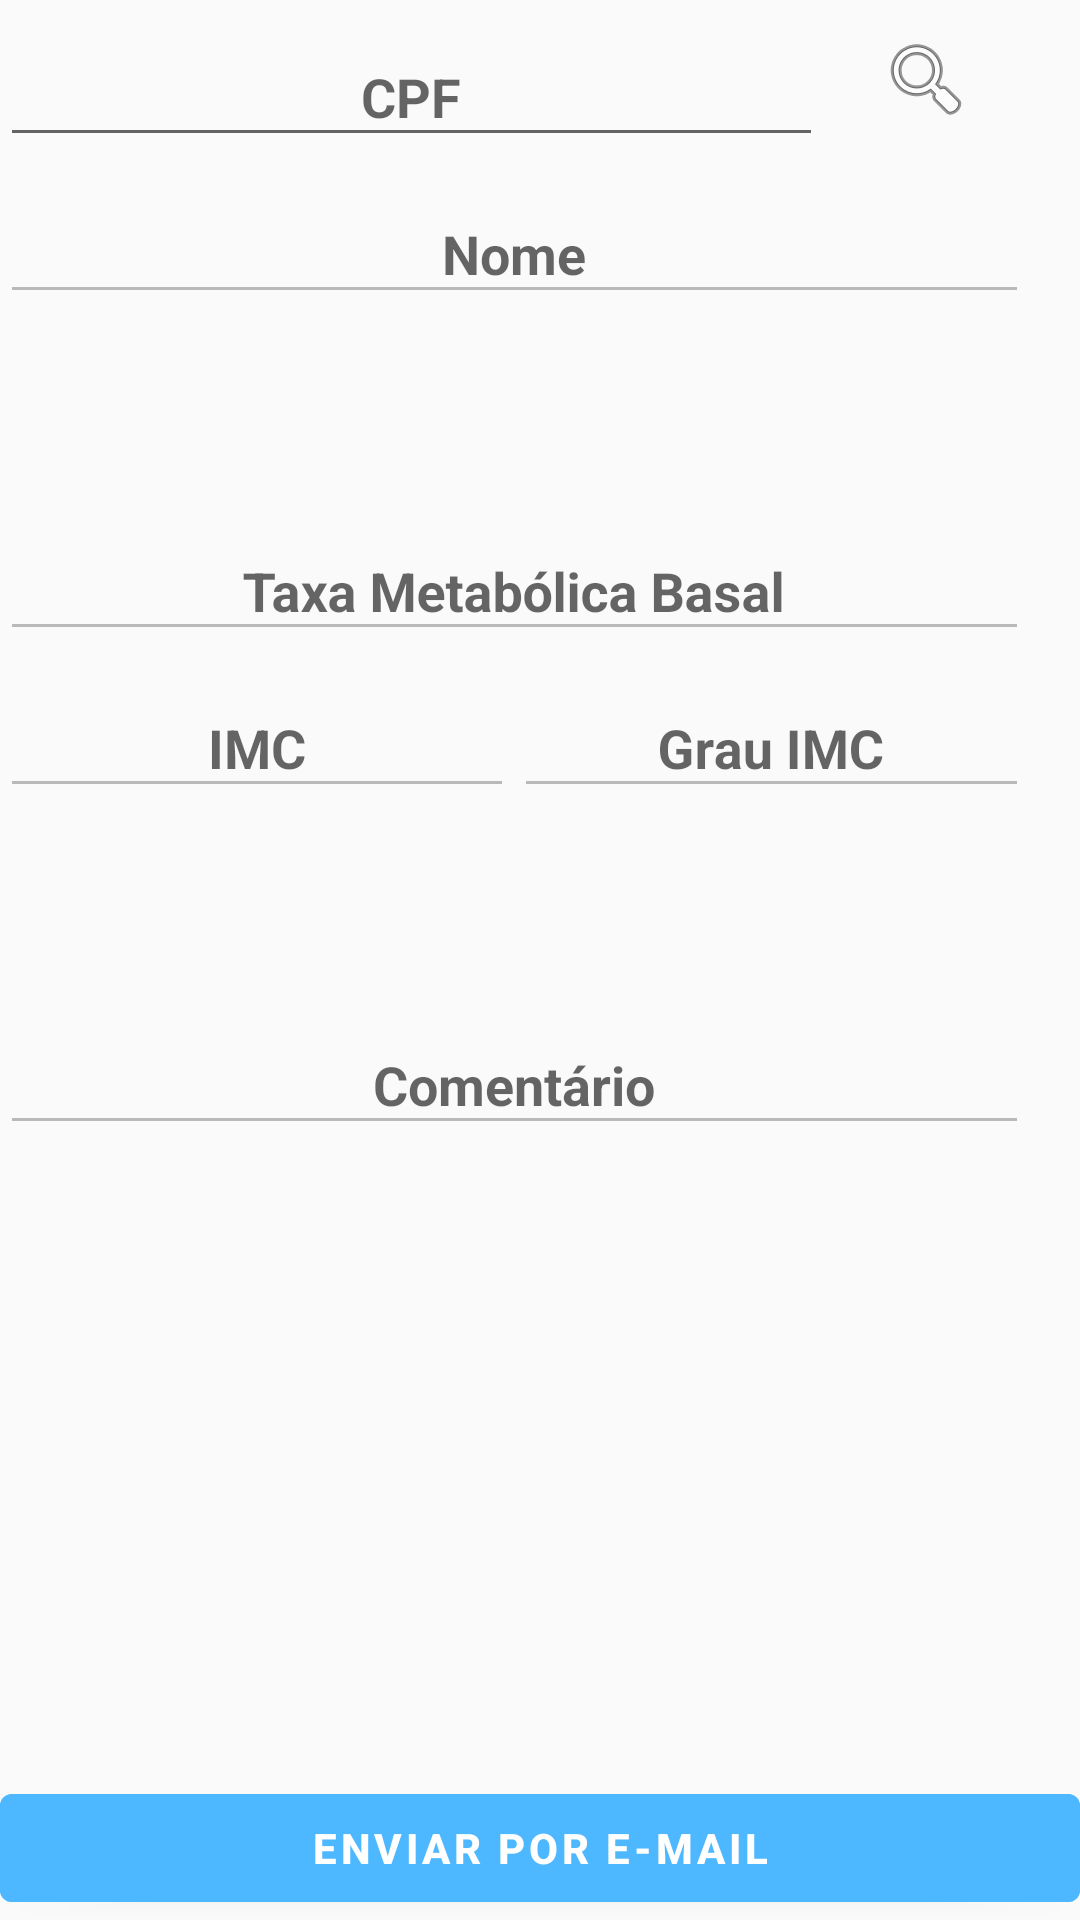

Icons on this 1080x1920 Android screen, each with the point to tap as [x,y]:
search: [926,79]
